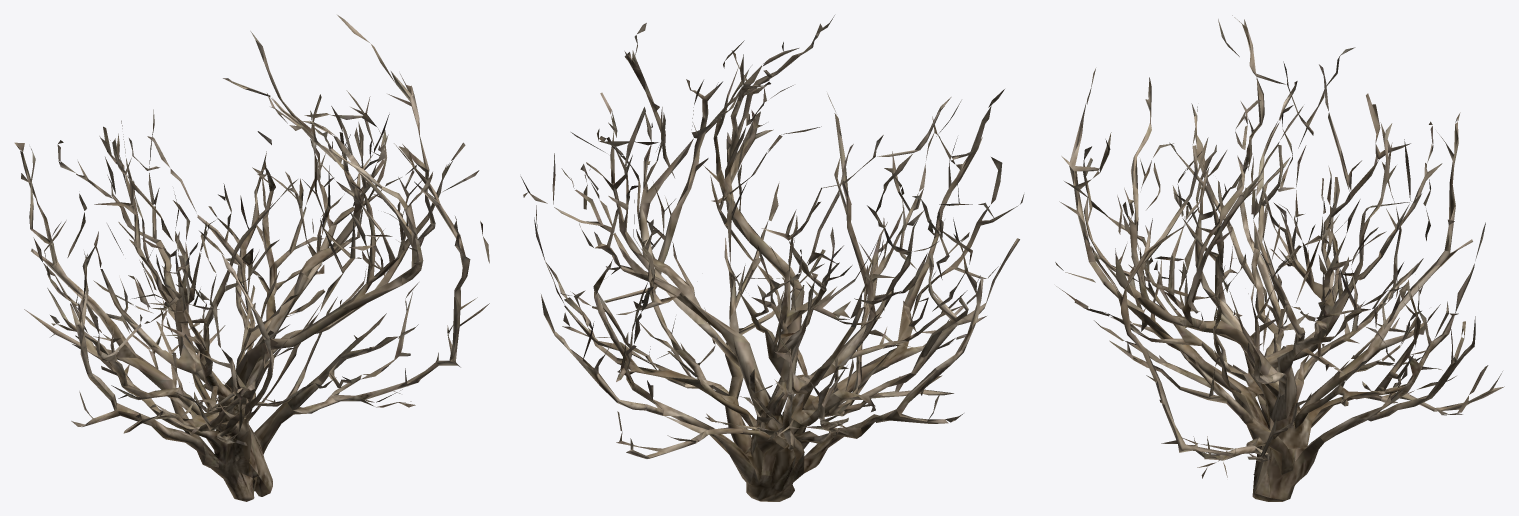
File: dead_shrub.glb
The picture shows the model from 3 angles, left to right: view 1: azimuth 30°, elevation 25°; view 2: azimuth 150°, elevation 25°; view 3: azimuth 270°, elevation 25°; orthographic projection. The views are drawn at different scales.
Visible parts, largest first — view 1: Mesh_0; view 2: Mesh_0; view 3: Mesh_0.
Boxes of the visible parts, bbox=[...] form: Mesh_0: bbox=[14, 15, 489, 501]; Mesh_0: bbox=[520, 15, 1024, 501]; Mesh_0: bbox=[1055, 15, 1504, 501].
Size of the model in its own units: 1.82 by 1.87 by 1.72.
Materials: 1 (1 with a texture image).
